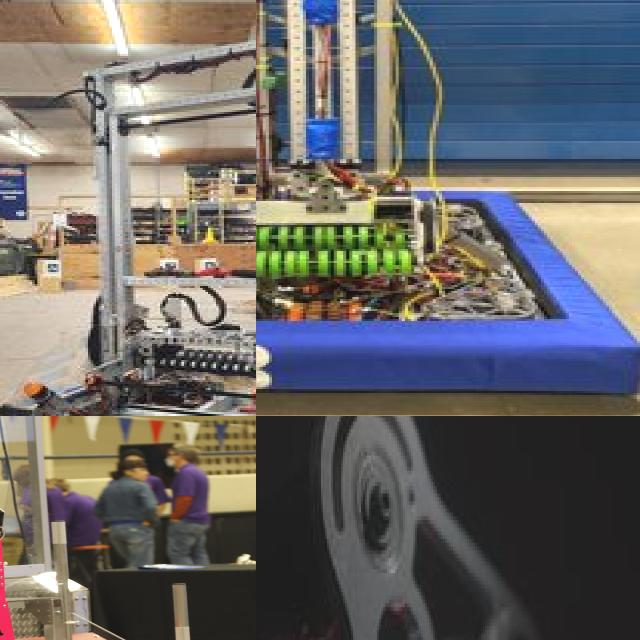FRC-Robots: (256, 0, 640, 401), (0, 2, 256, 416), (297, 416, 571, 640), (0, 489, 175, 640)
